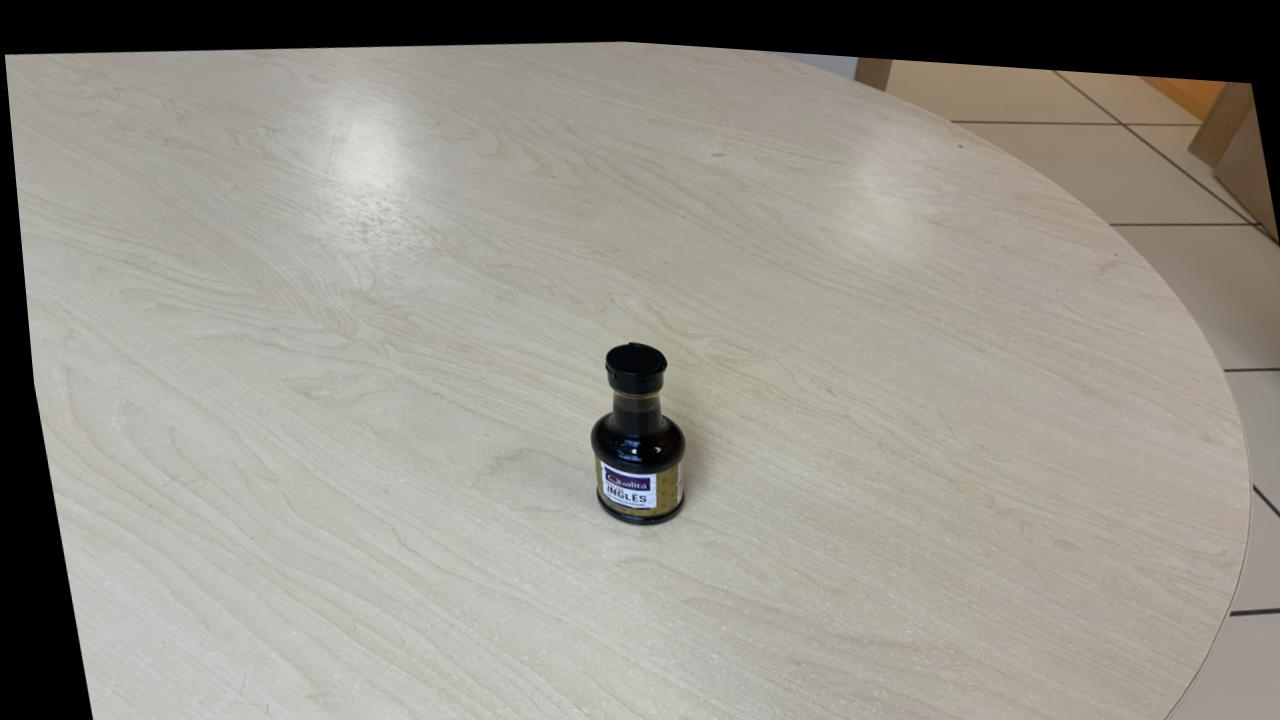English_Sauce-Pantry_Items: (581, 335, 682, 519)
